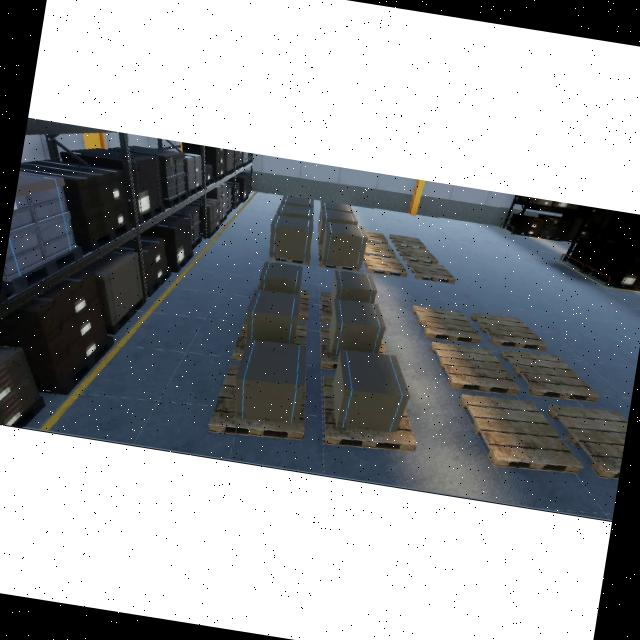wooden_pallet: (458, 394, 584, 474), (208, 362, 307, 440), (322, 377, 417, 450), (545, 404, 628, 479), (499, 349, 599, 404), (430, 342, 524, 396), (470, 312, 549, 351), (411, 305, 483, 345), (406, 260, 456, 284), (363, 254, 408, 277), (396, 246, 438, 264), (364, 242, 397, 259), (389, 235, 426, 249), (268, 256, 311, 265), (319, 262, 360, 271), (364, 231, 388, 245)
